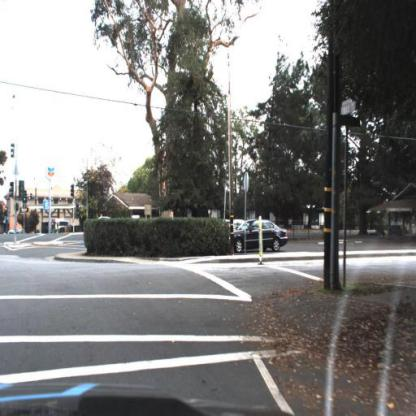car: (230, 216, 292, 256)
